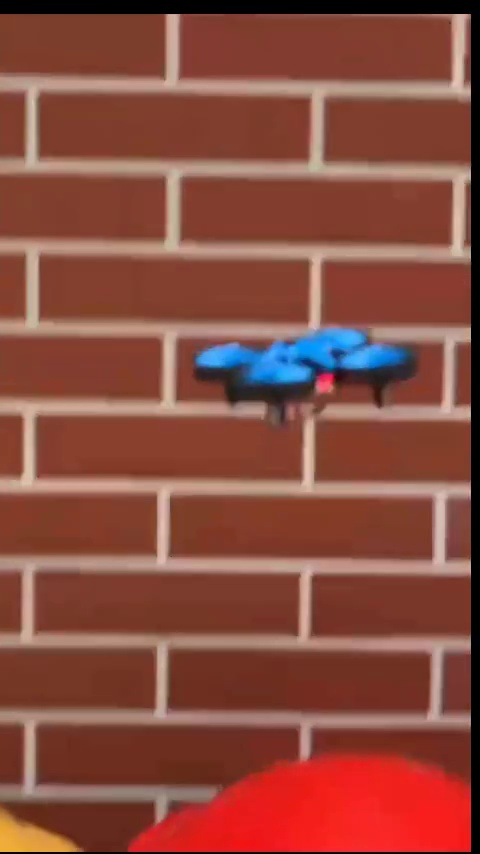drone: (198, 322, 419, 426)
